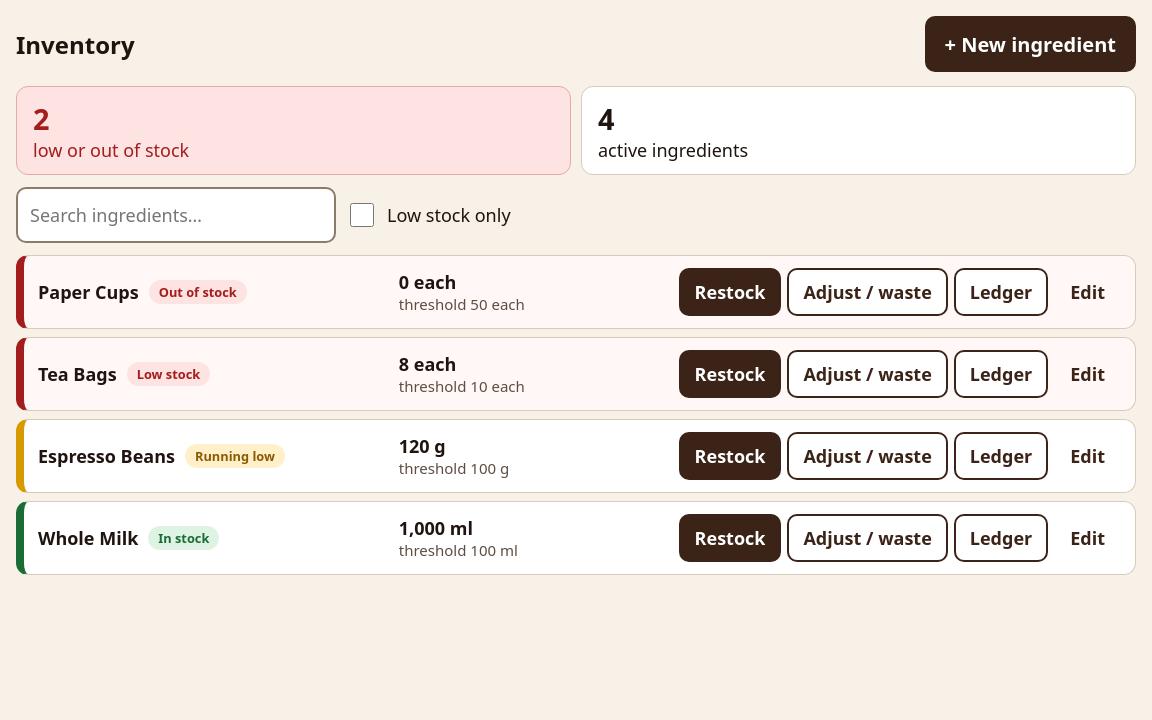
Test: InventoryPage › creates an ingredient with the typed payload and closes the dialog
Expected: the text "Tea Bags" is shown, [38, 362, 117, 386]
Click the button "+ New ingredient": {"x": 1030, "y": 44} [924, 16, 1136, 72]
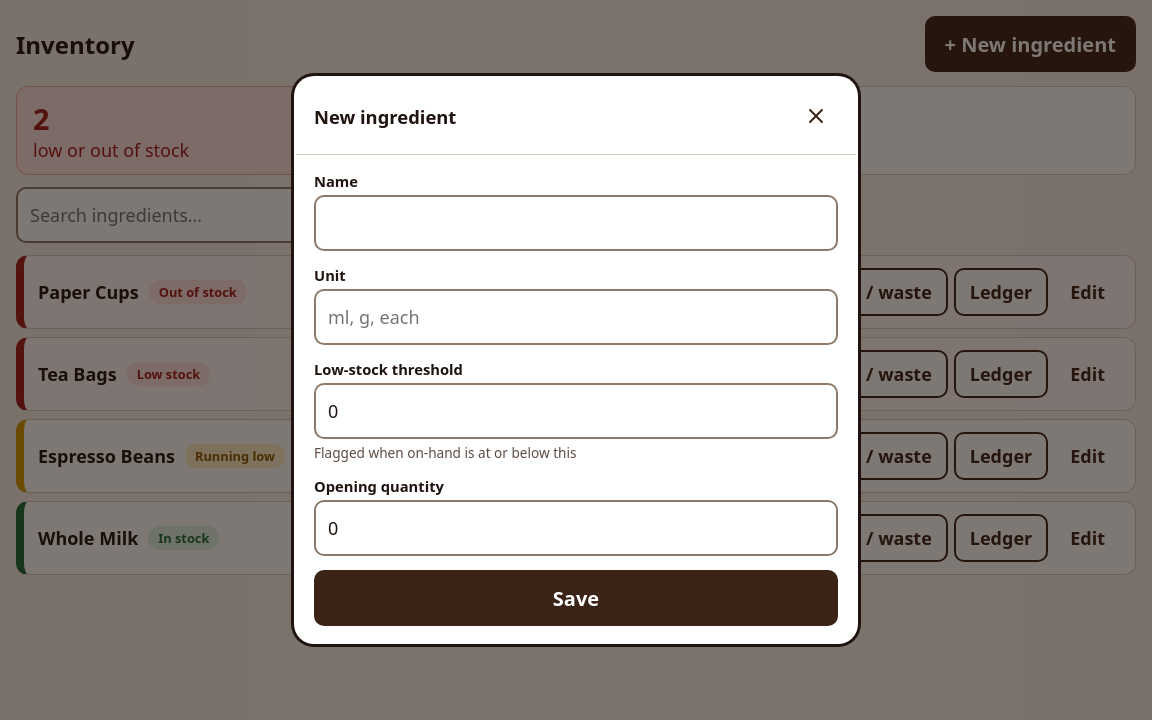
In the field labelled "Name": {"x": 576, "y": 223} [314, 195, 838, 251], type "Sugar"
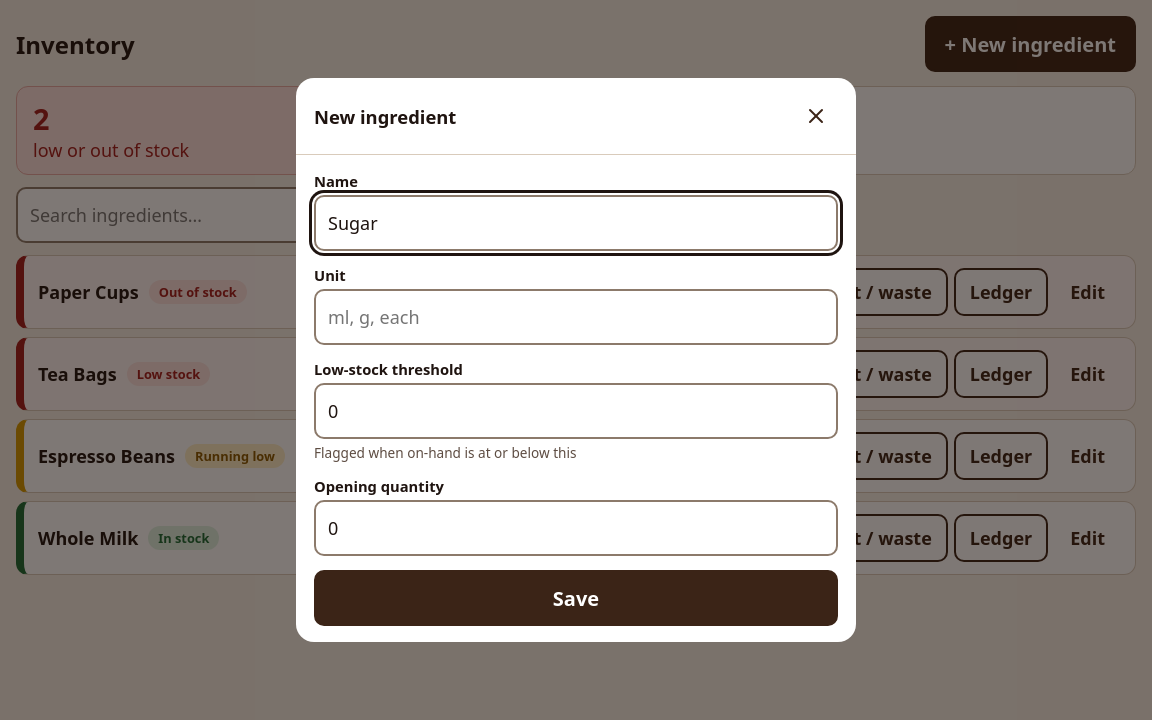
In the field labelled "Unit": {"x": 576, "y": 317} [314, 289, 838, 345], type "g"
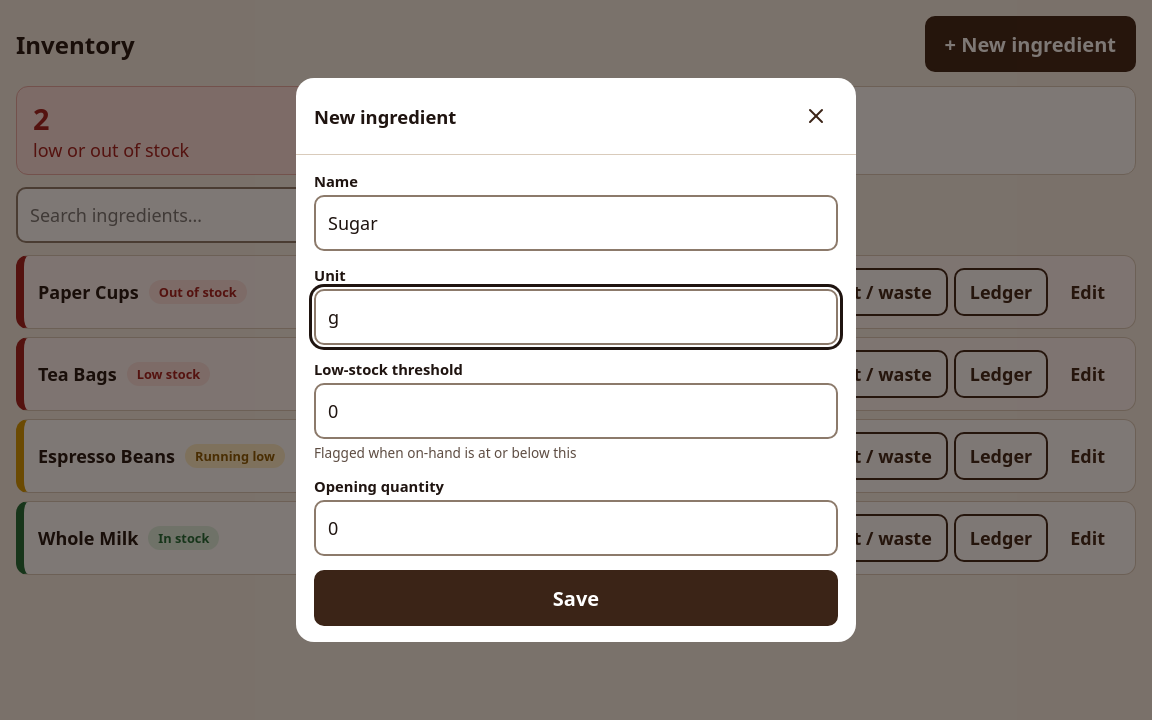
Replace the text in the number field labelled "Low-stock threshold Flagged when on-hand is at or below this" with "25": {"x": 576, "y": 411} [314, 383, 838, 439]
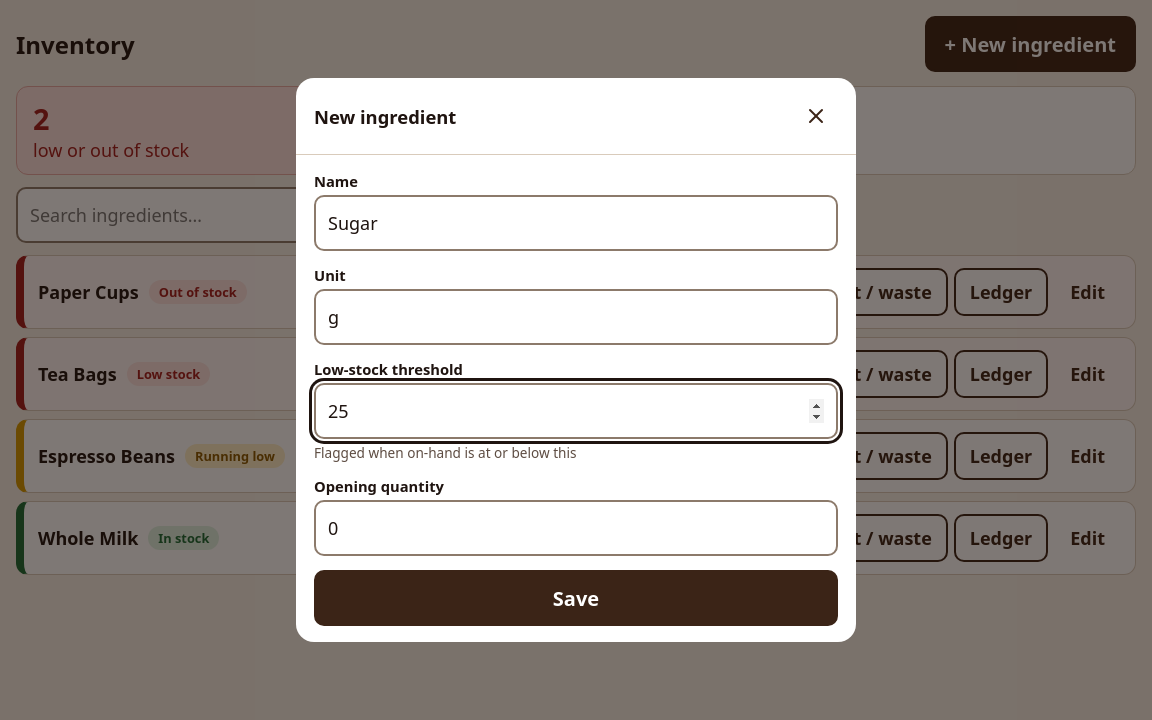
Replace the text in the number field labelled "Opening quantity" with "500": {"x": 576, "y": 528} [314, 500, 838, 556]
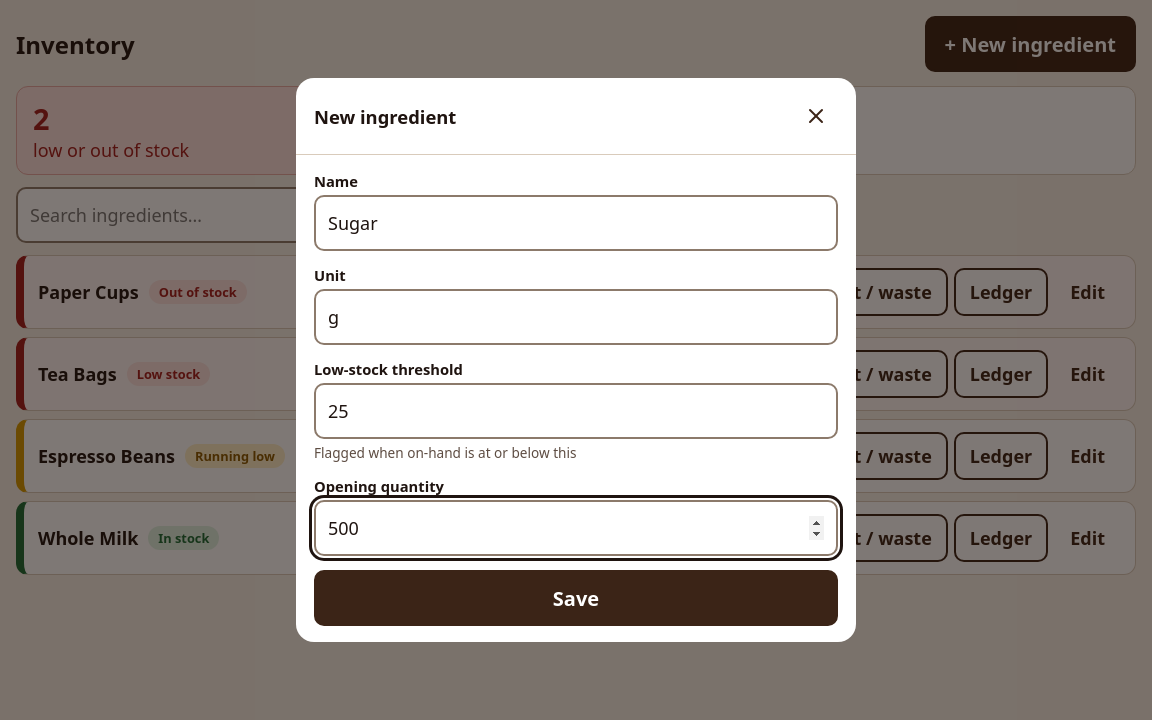
Click the button "Save": {"x": 576, "y": 598} [314, 570, 838, 626]
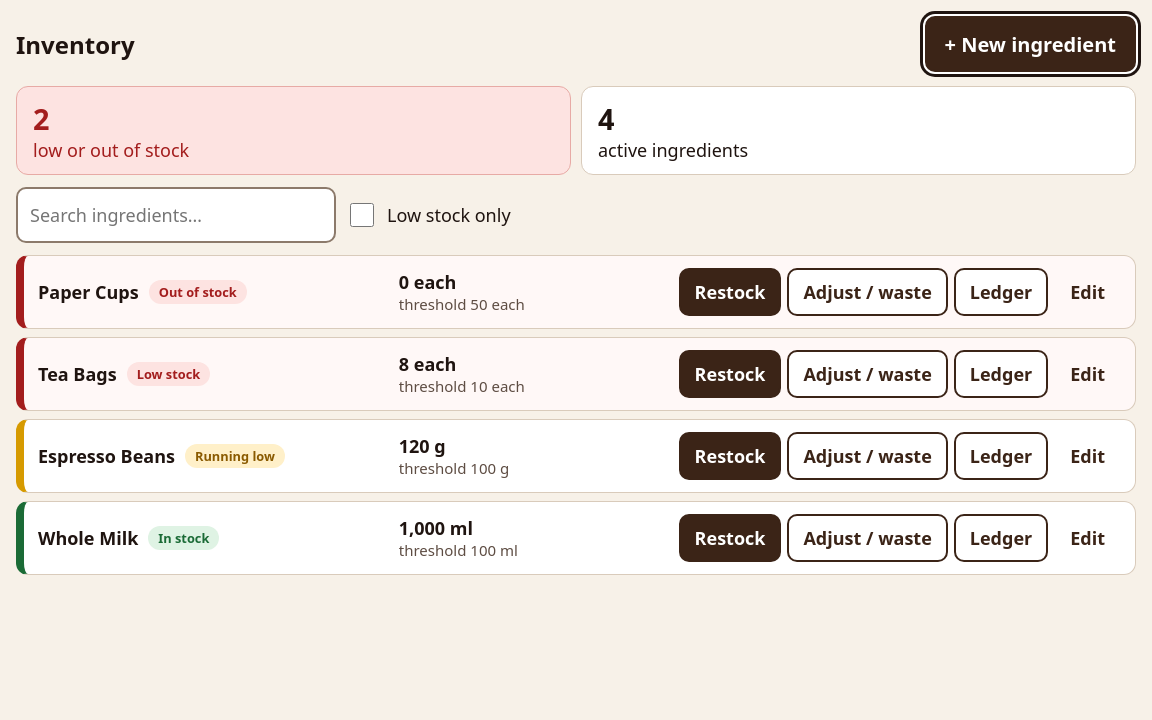
Expected: the text "Tea Bags" is shown, [38, 362, 117, 386]
Now the dialog is gone
